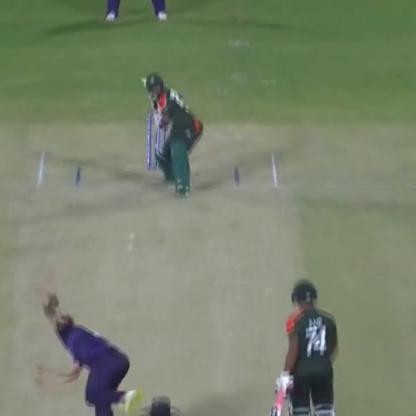ball: (123, 242, 138, 254), (126, 230, 139, 241)
bat: (138, 70, 164, 129), (265, 378, 289, 414)
pitch: (7, 125, 326, 416)
